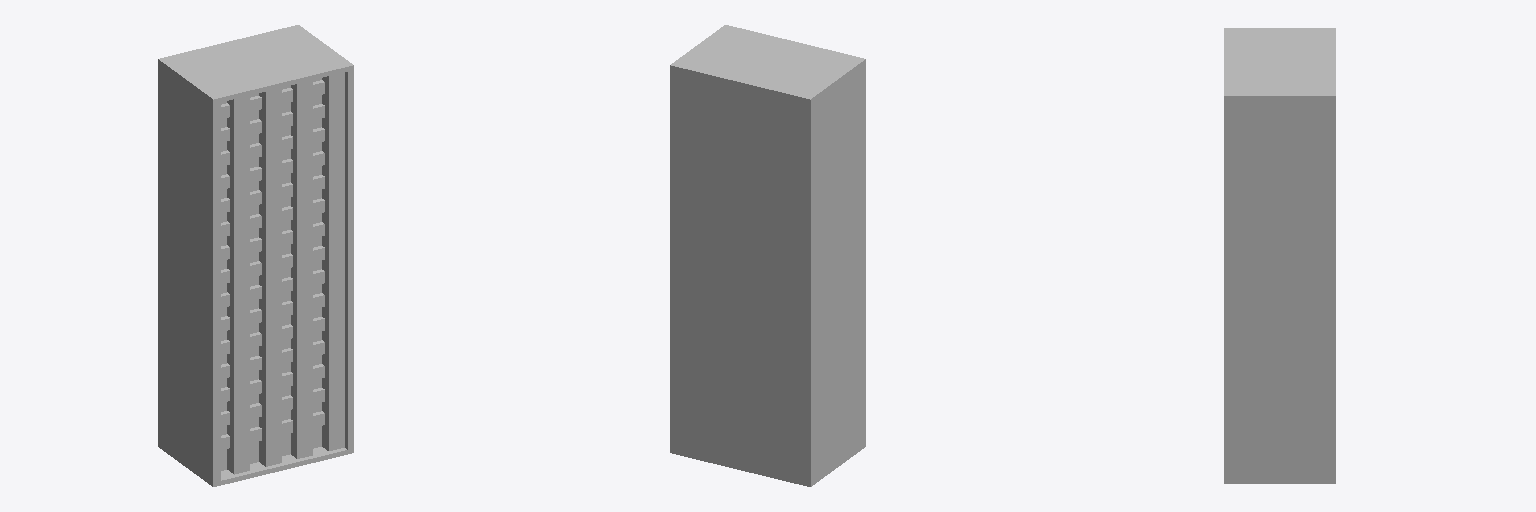
Rendered from Edificio_06.obj.
3 renders of one model, left to right at view 1: azimuth 30°, elevation 25°; view 2: azimuth 150°, elevation 25°; view 3: azimuth 270°, elevation 25°, orthographic.
Visible parts, largest first — view 1: edificio_03.003_Cube.020; view 2: edificio_03.003_Cube.020; view 3: edificio_03.003_Cube.020.
Boxes of the visible parts, x1,y1,x2,y2 form: edificio_03.003_Cube.020: [158, 25, 353, 486]; edificio_03.003_Cube.020: [670, 25, 865, 486]; edificio_03.003_Cube.020: [1224, 28, 1335, 483].
Bounding box in the file's own units: 12.36 × 32.57 × 8.45.